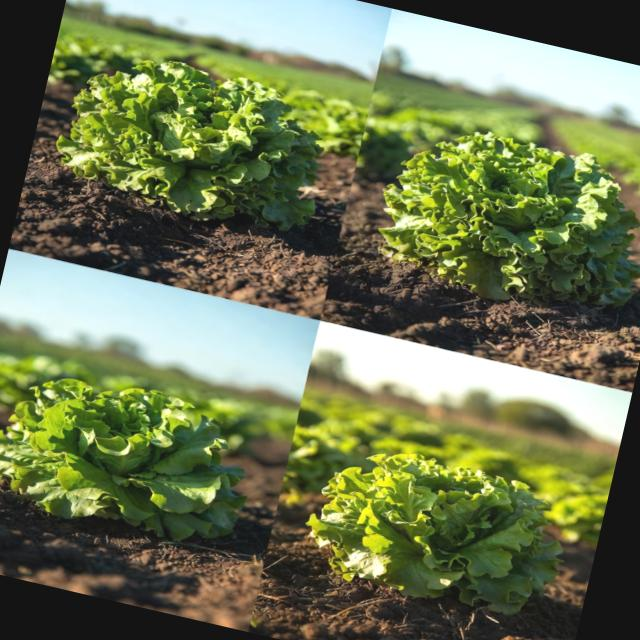lista_para_cosechar: (380, 132, 640, 306), (57, 61, 321, 229), (307, 453, 561, 614), (0, 379, 245, 540)
